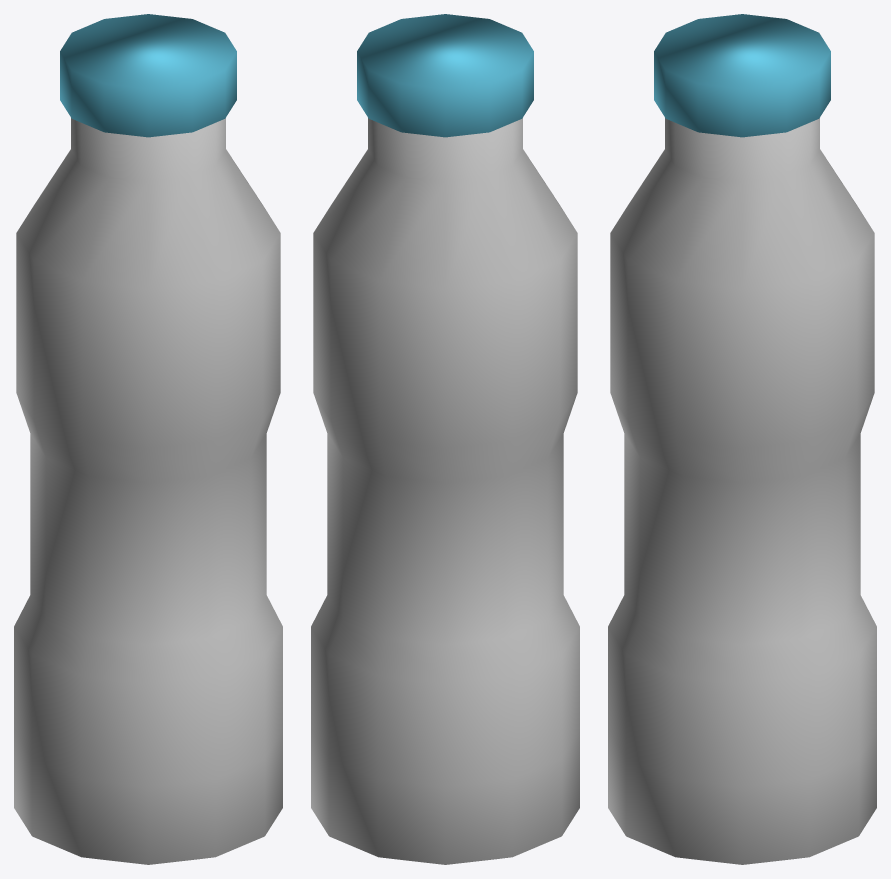
Rendered from Bouteille.fbx.
3 renders of one model, left to right at view 1: azimuth 30°, elevation 25°; view 2: azimuth 150°, elevation 25°; view 3: azimuth 270°, elevation 25°, orthographic.
Parts seen in each view (by area): view 1: Bouteille; view 2: Bouteille; view 3: Bouteille.
Part boxes in pixels (left/top/right/bottom): Bouteille: left=14, top=14, right=282, bottom=864; Bouteille: left=311, top=14, right=579, bottom=864; Bouteille: left=608, top=14, right=876, bottom=864.
Bounding box in the file's own units: 6.4 × 20.25 × 6.4.
